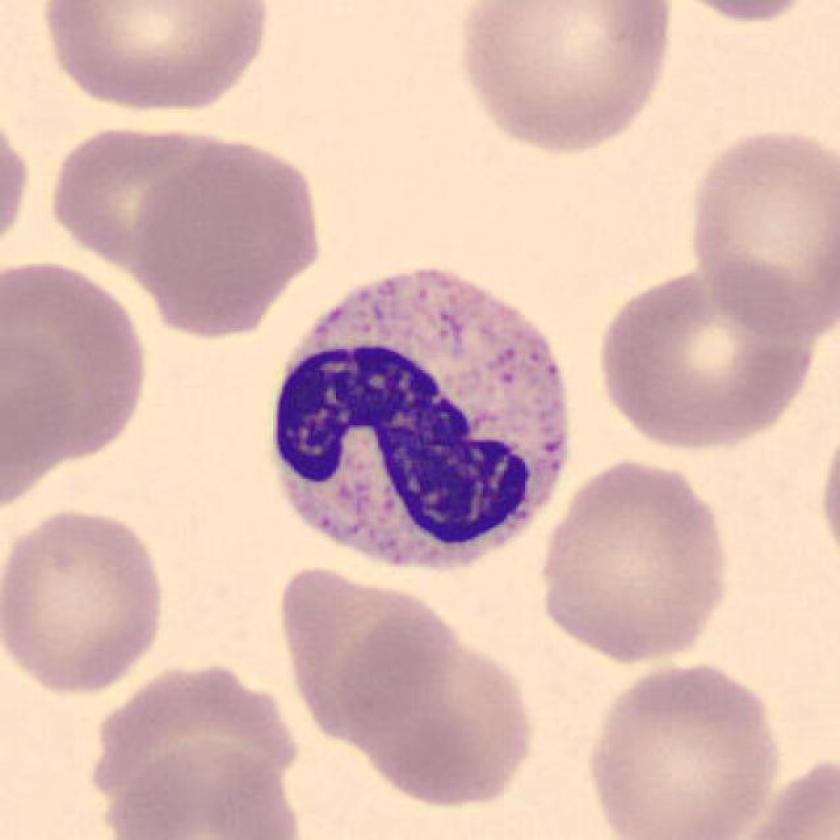neutrophil: (273, 270, 567, 567)
